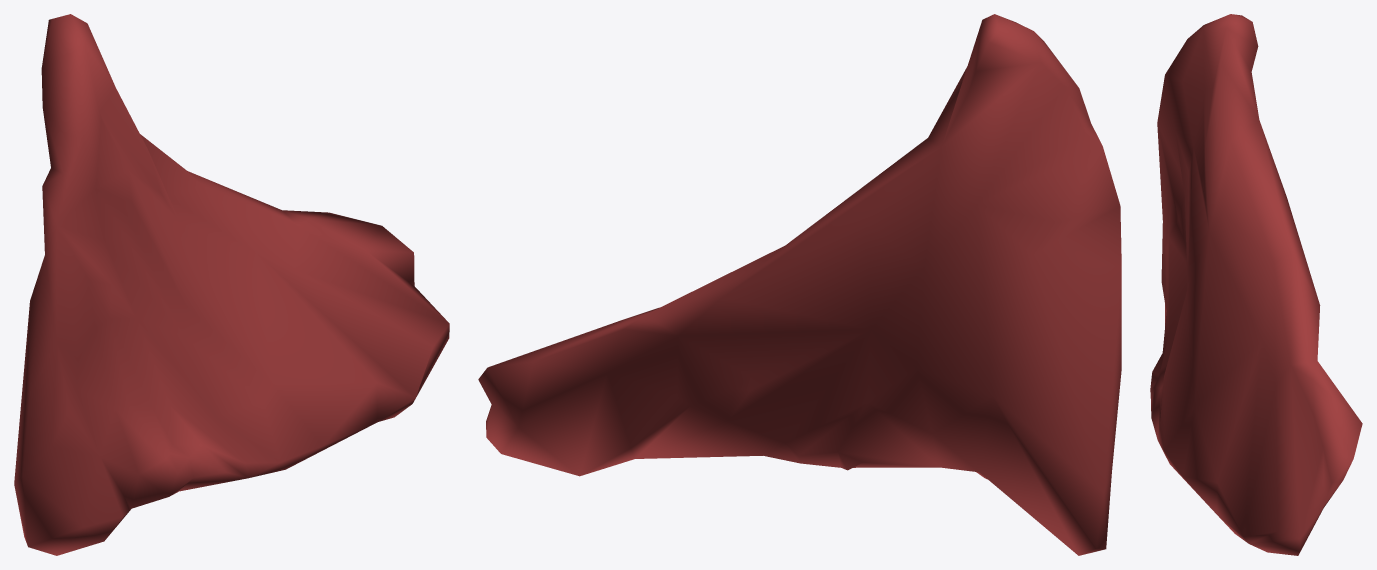
File: depressor-septi-nasi-l.glb
3 renders of one model, left to right at view 1: azimuth 30°, elevation 25°; view 2: azimuth 150°, elevation 25°; view 3: azimuth 270°, elevation 25°, orthographic. The views are drawn at different scales.
Parts seen in each view (by area): view 1: Depressor septi nasi.l; view 2: Depressor septi nasi.l; view 3: Depressor septi nasi.l.
Part boxes in pixels (x1,y1,x2,y2): Depressor septi nasi.l: (14, 14, 449, 555); Depressor septi nasi.l: (478, 14, 1121, 555); Depressor septi nasi.l: (1150, 14, 1362, 555).
Bounding box in the file's own units: 0.0166 × 0.0161 × 0.00757.
